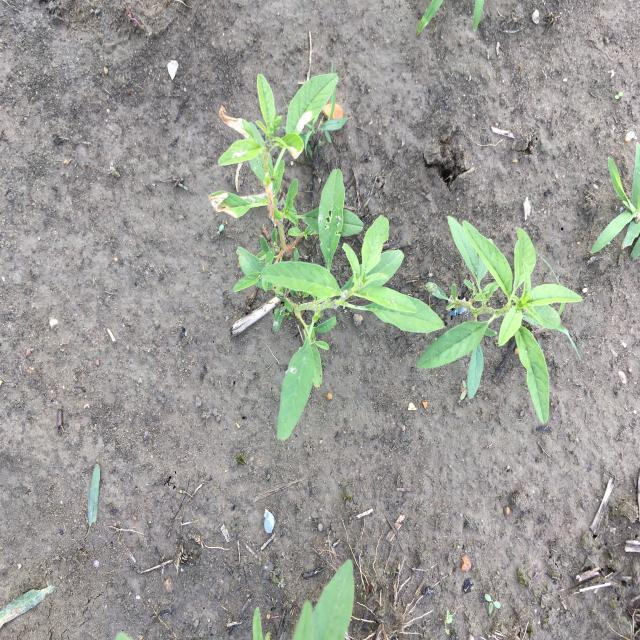Waterhemp: (207, 70, 450, 444), (414, 214, 586, 427)
